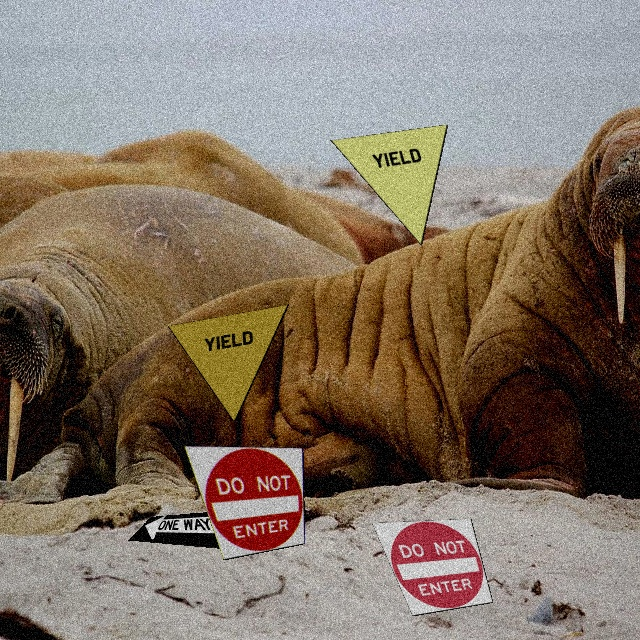DO_NOT_ENTER: (183, 445, 305, 560), (371, 518, 493, 616)
ONE_WAY_ left: (128, 511, 250, 551)
YIELD: (167, 304, 289, 423), (330, 124, 448, 246)
